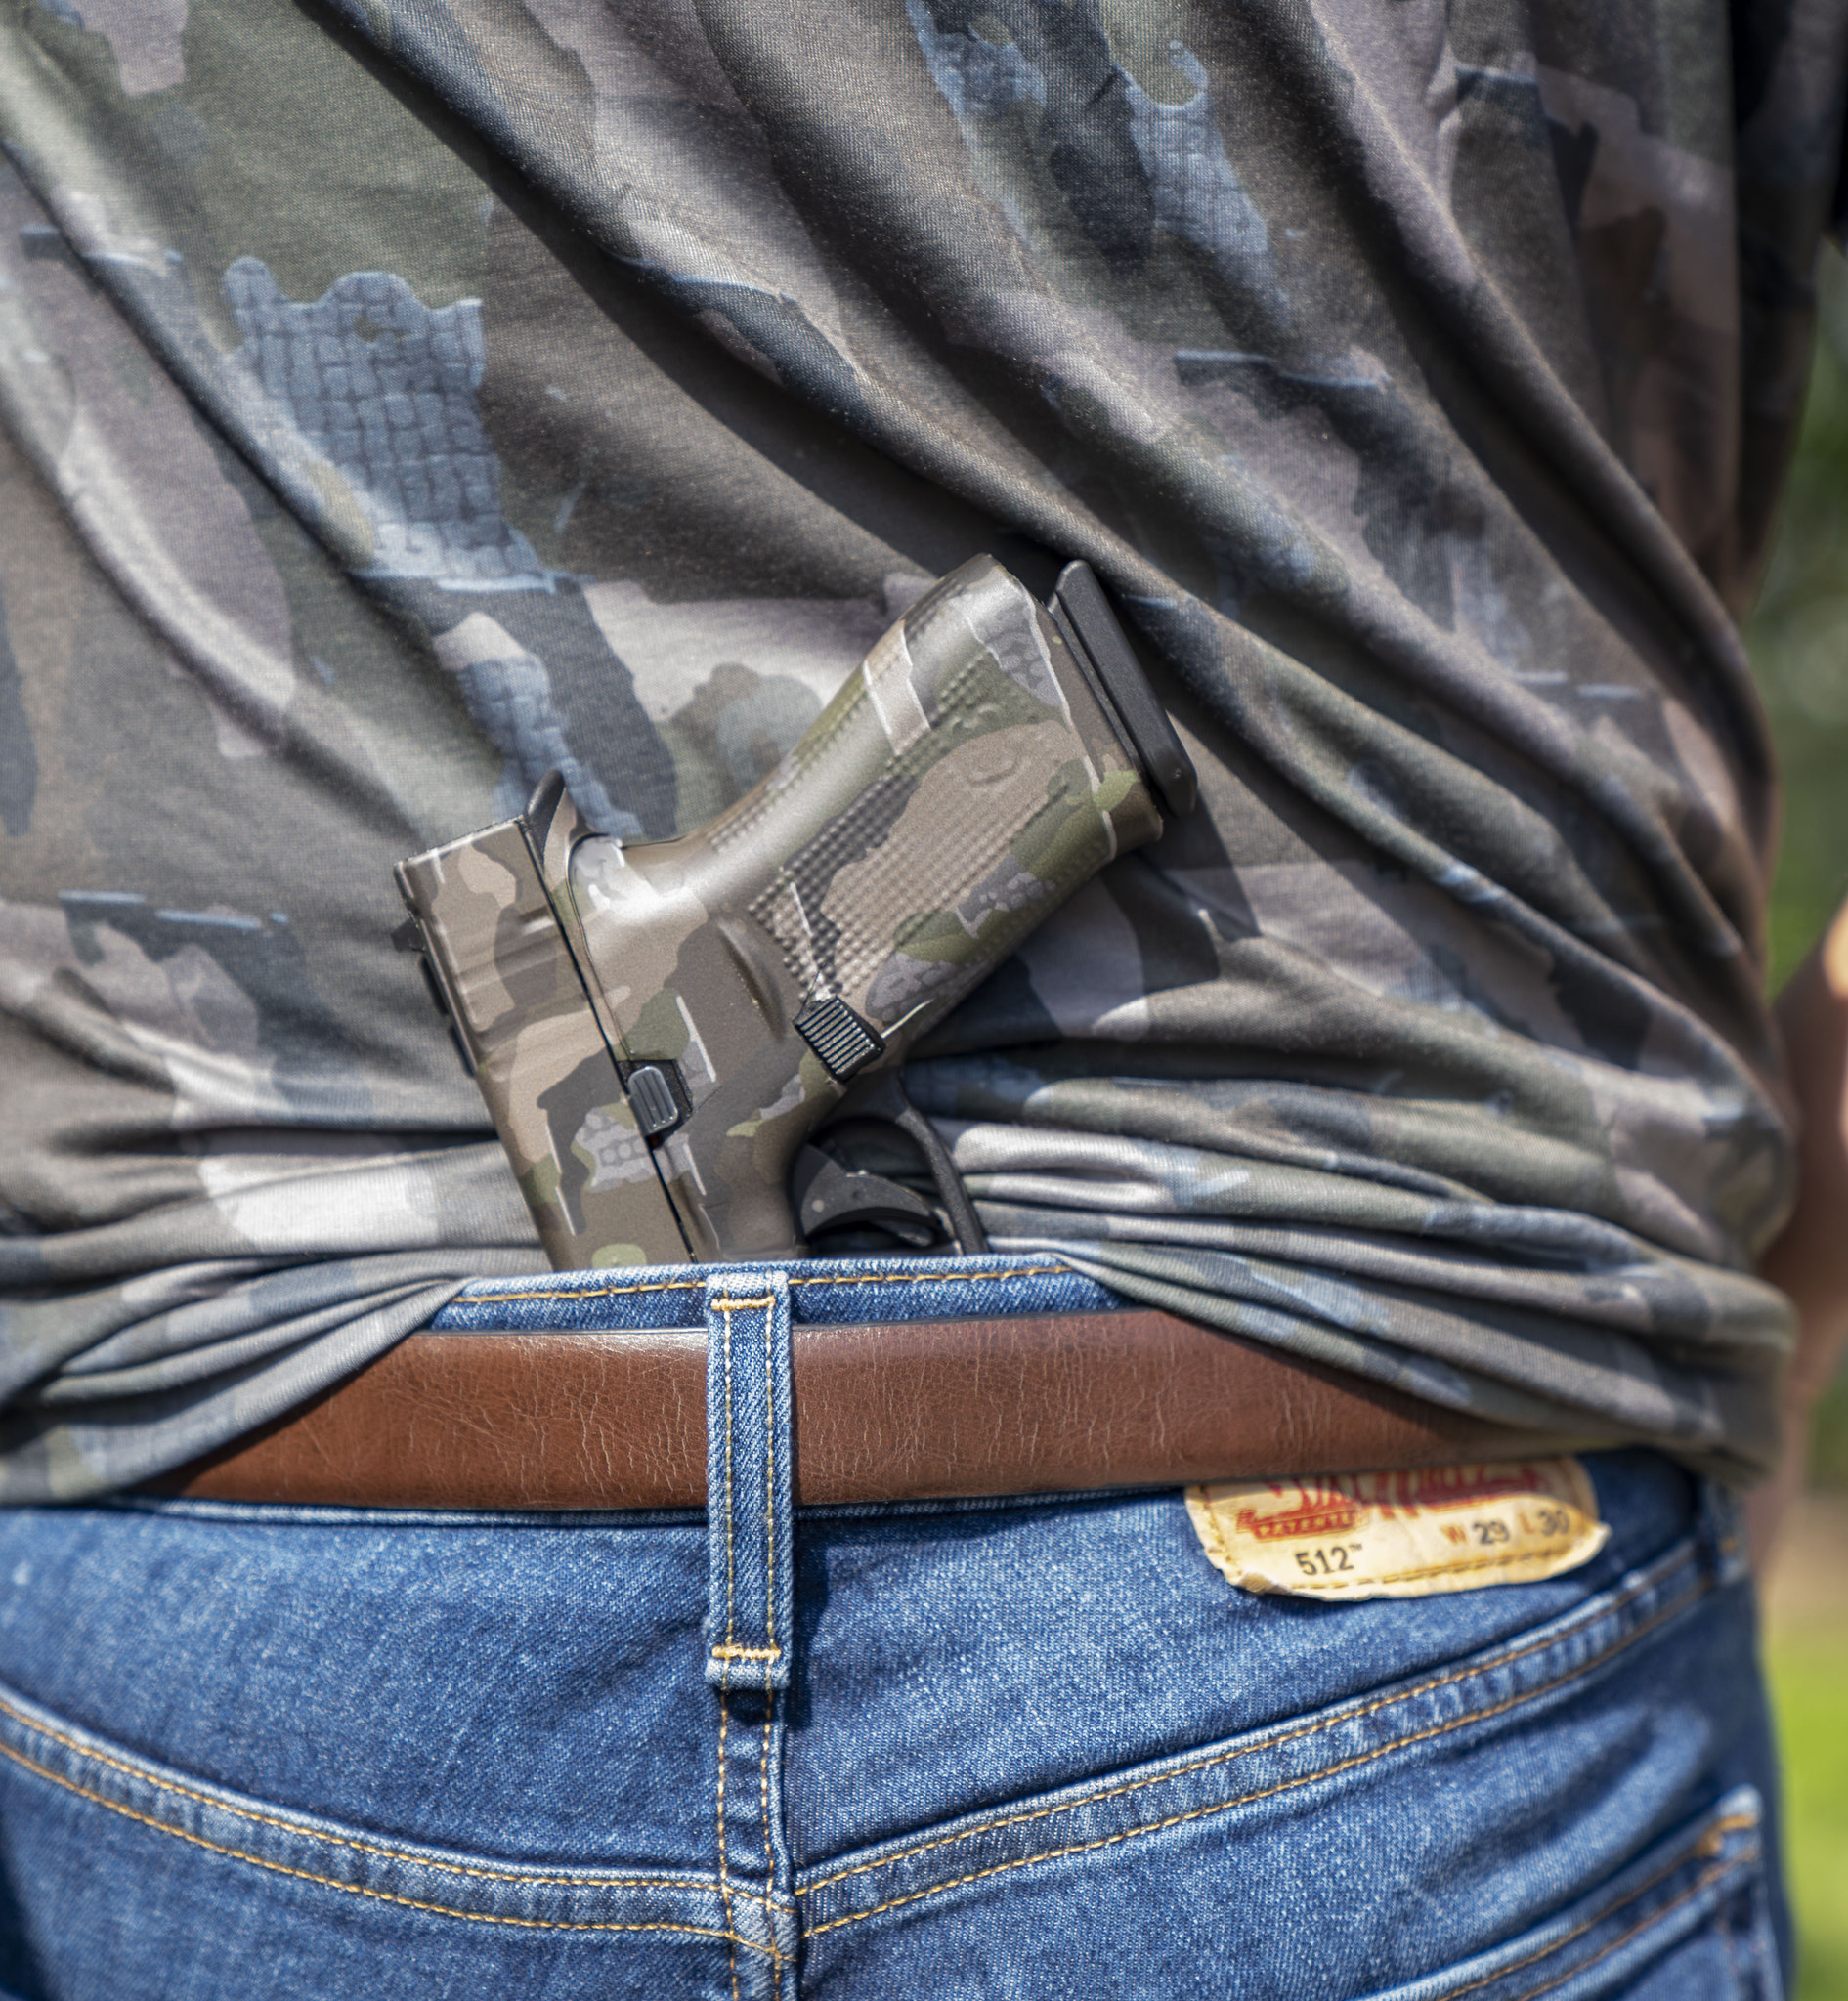gun: (363, 528, 1220, 1353)
